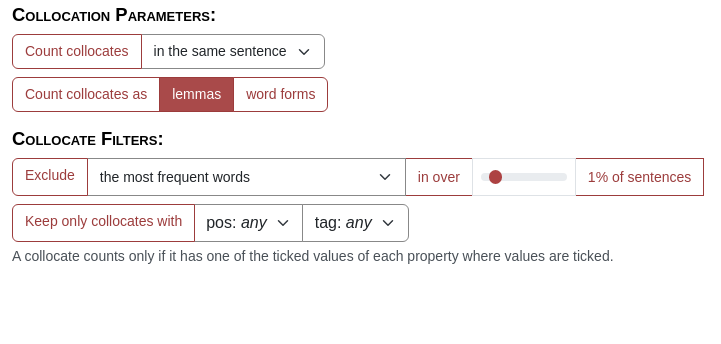
Scenario: CollocationOptions › keeps the values ticked of each property, its button saying which
Click the button with id "colloc-property-pos-toggle" at (248, 223), box [193,204,304,242]
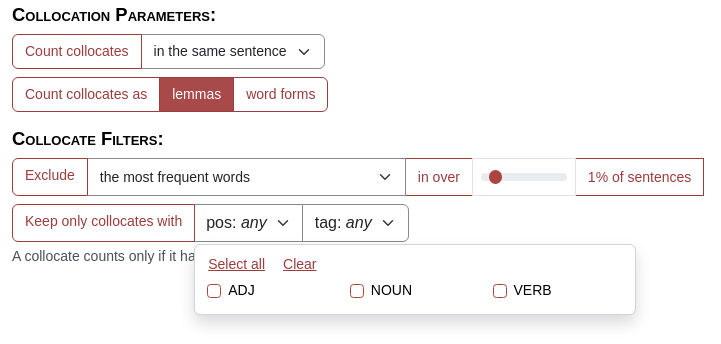
Click the checkbox with id "colloc-property-pos-2" at (500, 291), box [492,284,506,298]
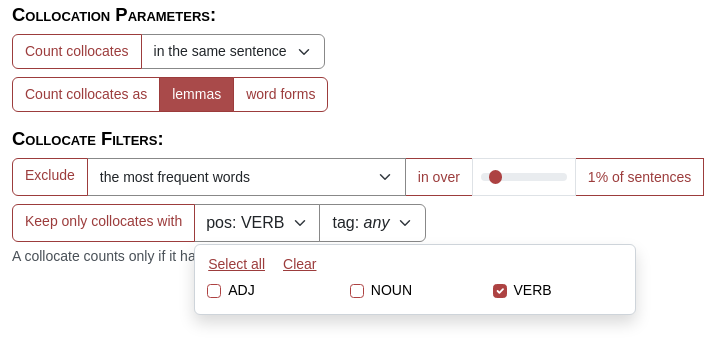
Click the checkbox with id "colloc-property-pos-0" at (214, 291), box [207,284,221,298]
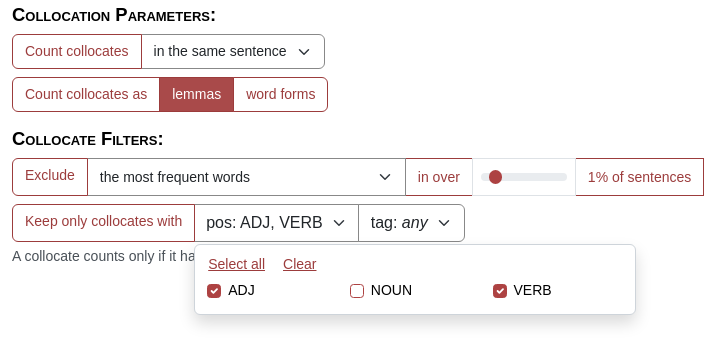
expect the button with id "colloc-property-pos-toggle" shows "ADJ, VERB": met, box [193,204,360,242]
Click the button "Select all" at (237, 265), box [207,253,266,276]
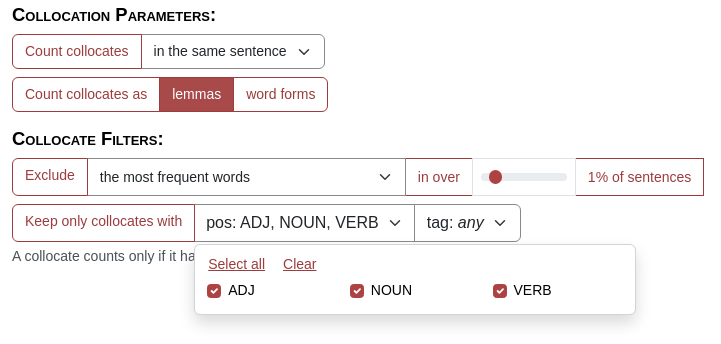
Click the button "Clear" at (300, 265), box [282,253,318,276]
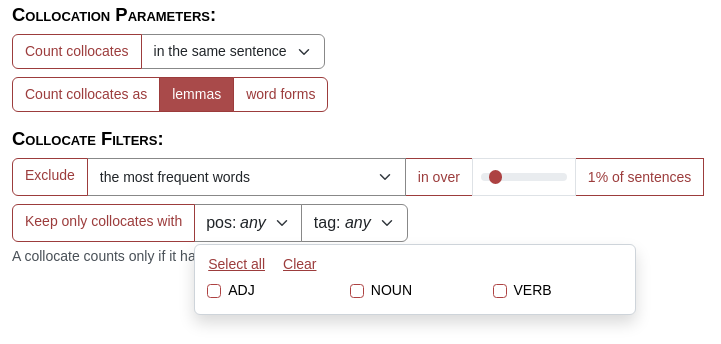
expect the button with id "colloc-property-pos-toggle" shows "any": met, box [193,204,303,242]
